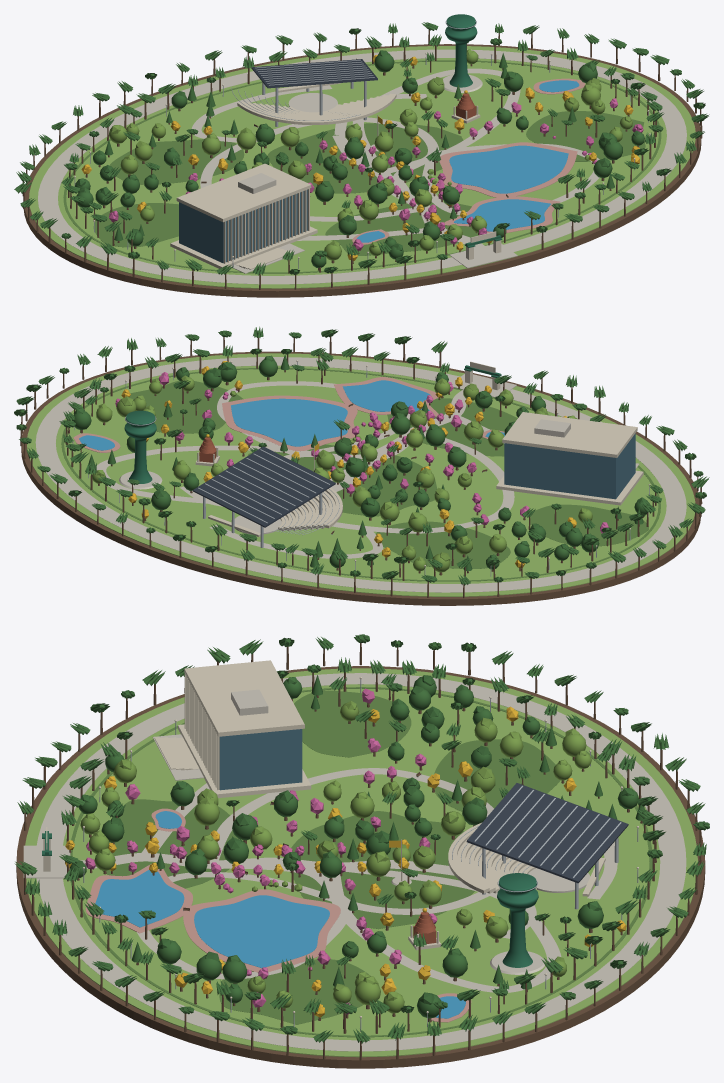
Rendered from aditi-garden.glb.
The picture shows the model from 3 angles, top to bottom: view 1: azimuth 30°, elevation 25°; view 2: azimuth 150°, elevation 25°; view 3: azimuth 270°, elevation 25°; orthographic projection. The views are drawn at different scales.
Visible parts, largest first — view 1: site_lawn, ring_road, site_plinth, lawn_central, lake_main_water, office_curtain_wall, office_parapet, lawn_east_terrace, lawn_west_grove, amphi_canopy_deck, lawn_south_meadow, lawn_deccan_harvest (+16 smaller); view 2: site_lawn, ring_road, site_plinth, amphi_canopy_deck, office_curtain_wall, lake_main_water, office_parapet, lawn_east_terrace, lawn_west_grove, lawn_deccan_harvest, lawn_central, lawn_south_meadow (+14 smaller); view 3: site_lawn, ring_road, site_plinth, amphi_canopy_deck, lake_main_water, lawn_central, office_parapet, lawn_deccan_harvest, office_curtain_wall, lawn_east_terrace, lawn_west_grove, lawn_south_meadow (+16 smaller).
Boxes of the visible parts, bbox=[...] form: site_lawn: bbox=[29, 46, 695, 288]; ring_road: bbox=[38, 49, 686, 284]; site_plinth: bbox=[23, 44, 701, 297]; lawn_central: bbox=[267, 123, 463, 193]; lake_main_water: bbox=[449, 145, 568, 193]; office_curtain_wall: bbox=[179, 189, 307, 263]; office_parapet: bbox=[176, 163, 311, 222]; lawn_east_terrace: bbox=[526, 111, 645, 161]; lawn_west_grove: bbox=[109, 139, 244, 184]; amphi_canopy_deck: bbox=[251, 59, 377, 88]; lawn_south_meadow: bbox=[325, 202, 477, 255]; lawn_deccan_harvest: bbox=[93, 203, 178, 247]; site_lawn: bbox=[27, 353, 695, 596]; ring_road: bbox=[35, 357, 686, 592]; site_plinth: bbox=[21, 351, 700, 605]; amphi_canopy_deck: bbox=[192, 446, 335, 527]; office_curtain_wall: bbox=[504, 433, 635, 499]; lake_main_water: bbox=[231, 398, 347, 446]; office_parapet: bbox=[502, 412, 637, 457]; lawn_east_terrace: bbox=[129, 380, 243, 433]; lawn_west_grove: bbox=[376, 521, 510, 568]; lawn_deccan_harvest: bbox=[530, 504, 648, 546]; lawn_central: bbox=[247, 444, 437, 516]; lawn_south_meadow: bbox=[387, 398, 517, 456]; site_lawn: bbox=[25, 668, 697, 1057]; ring_road: bbox=[36, 673, 686, 1051]; site_plinth: bbox=[16, 666, 705, 1068]; amphi_canopy_deck: bbox=[466, 783, 628, 883]; lake_main_water: bbox=[194, 895, 329, 968]; lawn_central: bbox=[291, 811, 474, 929]; office_parapet: bbox=[184, 660, 304, 736]; lawn_deccan_harvest: bbox=[294, 690, 411, 757]; office_curtain_wall: bbox=[219, 729, 302, 790]; lawn_east_terrace: bbox=[219, 959, 370, 1024]; lawn_west_grove: bbox=[434, 739, 560, 811]; lawn_south_meadow: bbox=[102, 799, 238, 888].
Size of the model in its own units: 330 by 34.9 by 239.
